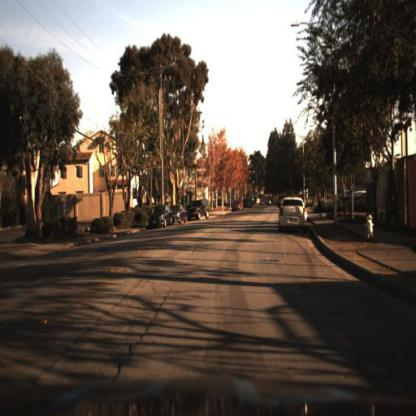car: (275, 194, 311, 236), (148, 203, 175, 231), (189, 196, 215, 223), (174, 203, 188, 226)
pedestrian: (315, 188, 327, 226)
